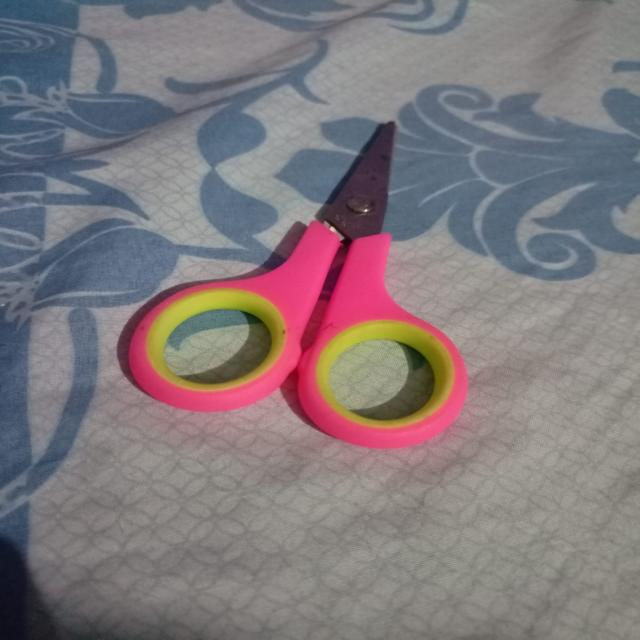scissor: (102, 105, 518, 468)
